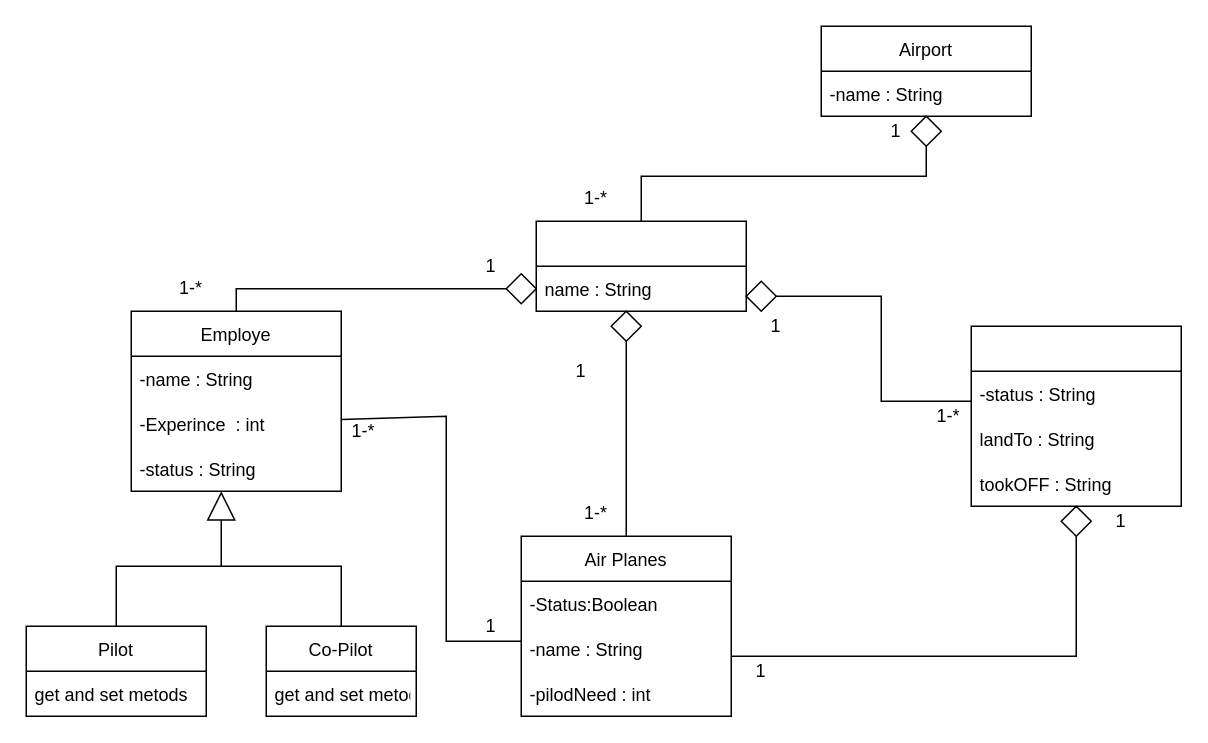
Some shapes in this 1208 by 743 pixel diagram are drawn without their labels. The shapes that lost their labels are listed below. From the top down, each one's box as (x1, y1, x2, y2) in pixels, then its label:
(535, 220, 746, 311): Airport company
(970, 325, 1181, 506): Flights
